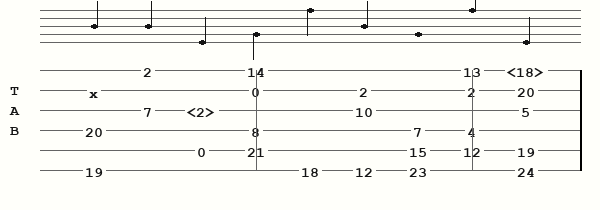0: (197, 144, 210, 157), (251, 84, 264, 97)
10: (355, 104, 377, 117)
12: (355, 164, 377, 177), (463, 144, 485, 157)
13: (463, 64, 485, 77)
14: (247, 64, 269, 77)
15: (409, 144, 431, 157)
18: (301, 164, 323, 177)
19: (85, 164, 107, 177), (517, 144, 539, 157)
2: (143, 64, 156, 77), (359, 84, 372, 97), (467, 84, 480, 97)
20: (85, 124, 107, 137), (517, 84, 539, 97)
21: (247, 144, 269, 157)
23: (409, 164, 431, 177)
24: (517, 164, 539, 177)
4: (467, 124, 480, 137)
5: (521, 104, 534, 117)
7: (143, 104, 156, 117), (413, 124, 426, 137)
8: (251, 124, 264, 137)
harmonic: (507, 64, 549, 77), (187, 104, 220, 117)
x: (89, 85, 102, 95)
